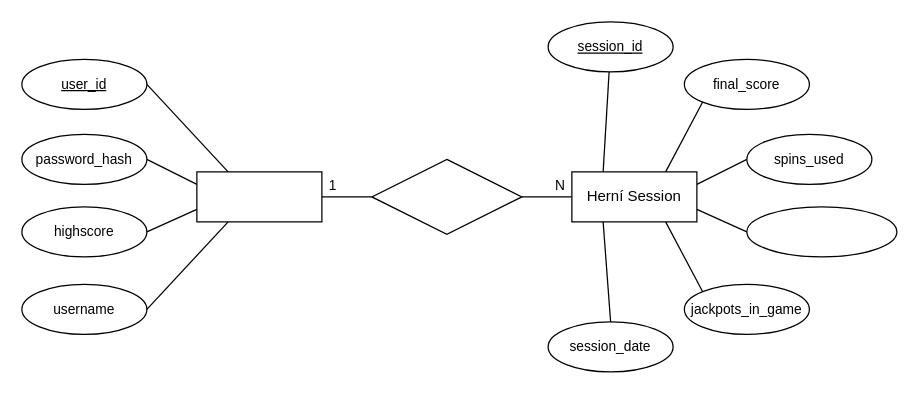
This 919x394 diagram has some shape labels left out. Here are the shapes that lost their labels. From the top down, the centre of each, then its label:
At pixel 259 196: "Uživatel".
At pixel 446 196: "Odehraje".
At pixel 821 231: "bonus_spins_gained".
